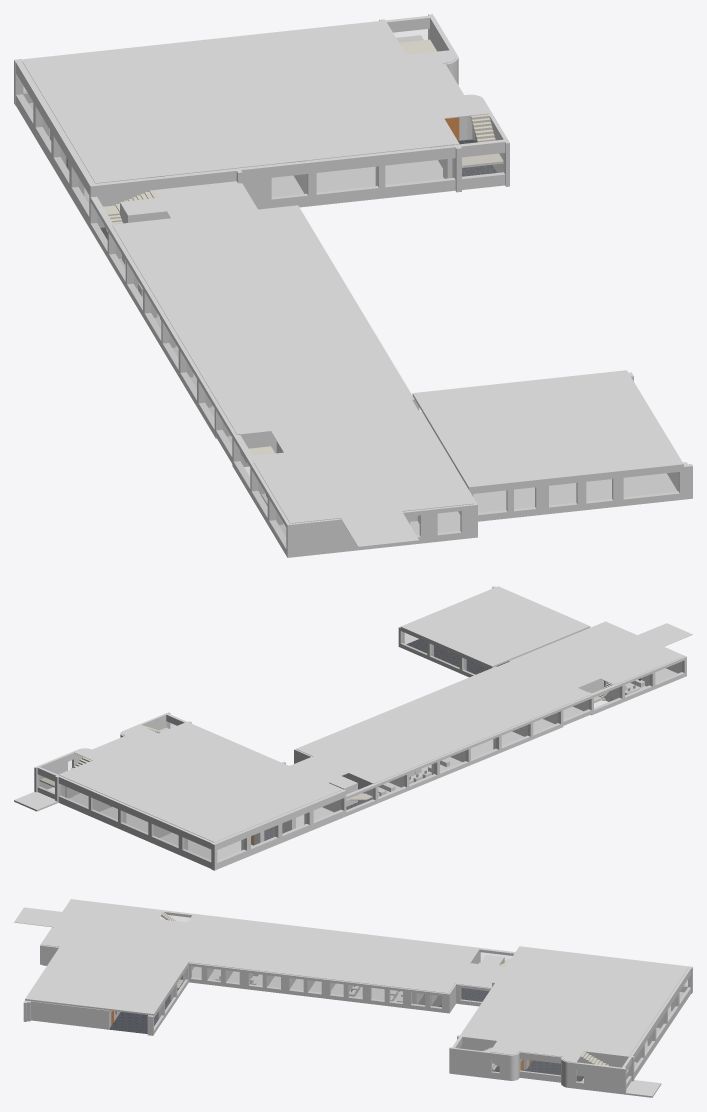
3 views of the same model, one above another, from view 1: azimuth 30°, elevation 25°; view 2: azimuth 150°, elevation 25°; view 3: azimuth 270°, elevation 25° (orthographic). The views are drawn at different scales.
Parts seen in each view (by area): view 1: 3.206, 3.205, 2.519, 62920.0, 62020.0, 2.357, 2.308, 2.501, 2.502, 205.001, 211.001, 202.001 (+22 smaller); view 2: 3.206, 3.205, 2.519, 62050.0, 2.347, 2.520, 62130.0, Туалет (Ж), -.001, 205.001, 204.001, 228.001 (+12 smaller); view 3: 3.206, 3.205, 2.519, 2.224, 2.347, 2.325, 1.015, 2.351, 2.514, 2.520, 1.498, 207.001 (+23 smaller).
Boxes of the visible parts, bbox=[...] form: 3.206: bbox=[112, 181, 474, 547]; 3.205: bbox=[22, 22, 488, 183]; 2.519: bbox=[412, 370, 683, 489]; 62920.0: bbox=[473, 473, 677, 512]; 62020.0: bbox=[316, 147, 444, 192]; 2.357: bbox=[286, 518, 375, 557]; 2.308: bbox=[89, 174, 180, 229]; 2.501: bbox=[385, 158, 455, 186]; 2.502: bbox=[317, 166, 378, 193]; 205.001: bbox=[78, 63, 138, 88]; 211.001: bbox=[153, 267, 213, 292]; 202.001: bbox=[340, 115, 400, 140]; 3.206: bbox=[290, 622, 692, 788]; 3.205: bbox=[58, 722, 340, 842]; 2.519: bbox=[400, 586, 590, 667]; 62050.0: bbox=[159, 833, 252, 860]; 2.347: bbox=[34, 754, 67, 792]; 2.520: bbox=[14, 791, 58, 811]; 62130.0: bbox=[471, 731, 523, 758]; Туалет (Ж): bbox=[311, 740, 347, 755]; -.001: bbox=[356, 762, 392, 777]; 205.001: bbox=[189, 811, 225, 826]; 204.001: bbox=[221, 758, 257, 773]; 228.001: bbox=[587, 628, 622, 643]; 3.206: bbox=[14, 899, 504, 993]; 3.205: bbox=[462, 947, 687, 1062]; 2.519: bbox=[25, 946, 188, 1015]; 2.224: bbox=[29, 1001, 103, 1028]; 2.347: bbox=[584, 1063, 626, 1094]; 2.325: bbox=[449, 1047, 491, 1078]; 1.015: bbox=[107, 1013, 158, 1033]; 2.351: bbox=[499, 1052, 520, 1080]; 2.514: bbox=[520, 1059, 560, 1075]; 2.520: bbox=[625, 1080, 661, 1097]; 1.498: bbox=[492, 1060, 583, 1081]; 207.001: bbox=[528, 953, 563, 968].
Bounding box in the file's own units: 6083 × 414 × 9708.
